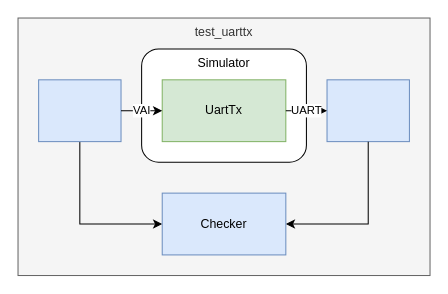
This 448x294 diagram has some shape labels left out. The shapes that lost their labels are listed below. From the top down, each one's centre as x and y in pixels, then its label:
At pixel 79 110: "vai_driver".
At pixel 367 110: "uart_ receiver".
